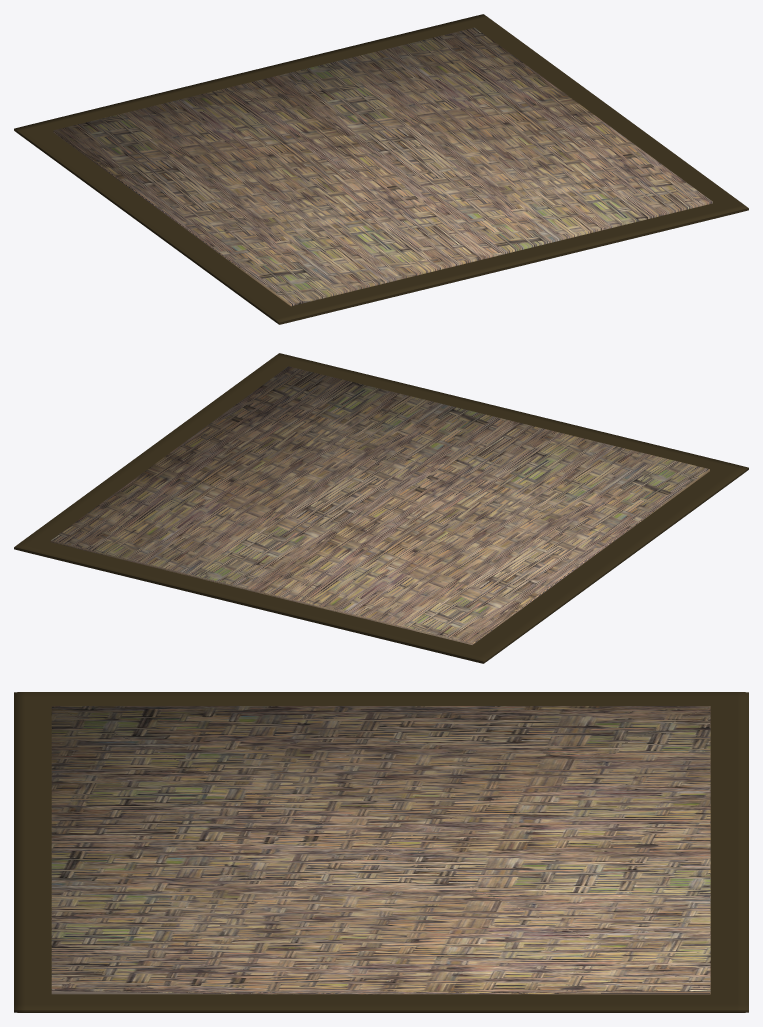
The model's file is alfombra.glb.
3 views of the same model, one above another, from view 1: azimuth 30°, elevation 25°; view 2: azimuth 150°, elevation 25°; view 3: azimuth 270°, elevation 25° (orthographic). The views are drawn at different scales.
Visible parts, largest first — view 1: Object_3, Object_2; view 2: Object_3, Object_2; view 3: Object_3, Object_2.
Part boxes in pixels (x1,y1,x2,y2): Object_3: (53,27,712,306); Object_2: (14,14,748,324); Object_3: (50,366,709,644); Object_2: (14,353,748,663); Object_3: (51,706,710,994); Object_2: (14,692,748,1012).
Bounding box in the file's own units: 10.78 × 0.1673 × 10.53.
2 materials, 1 textured.
